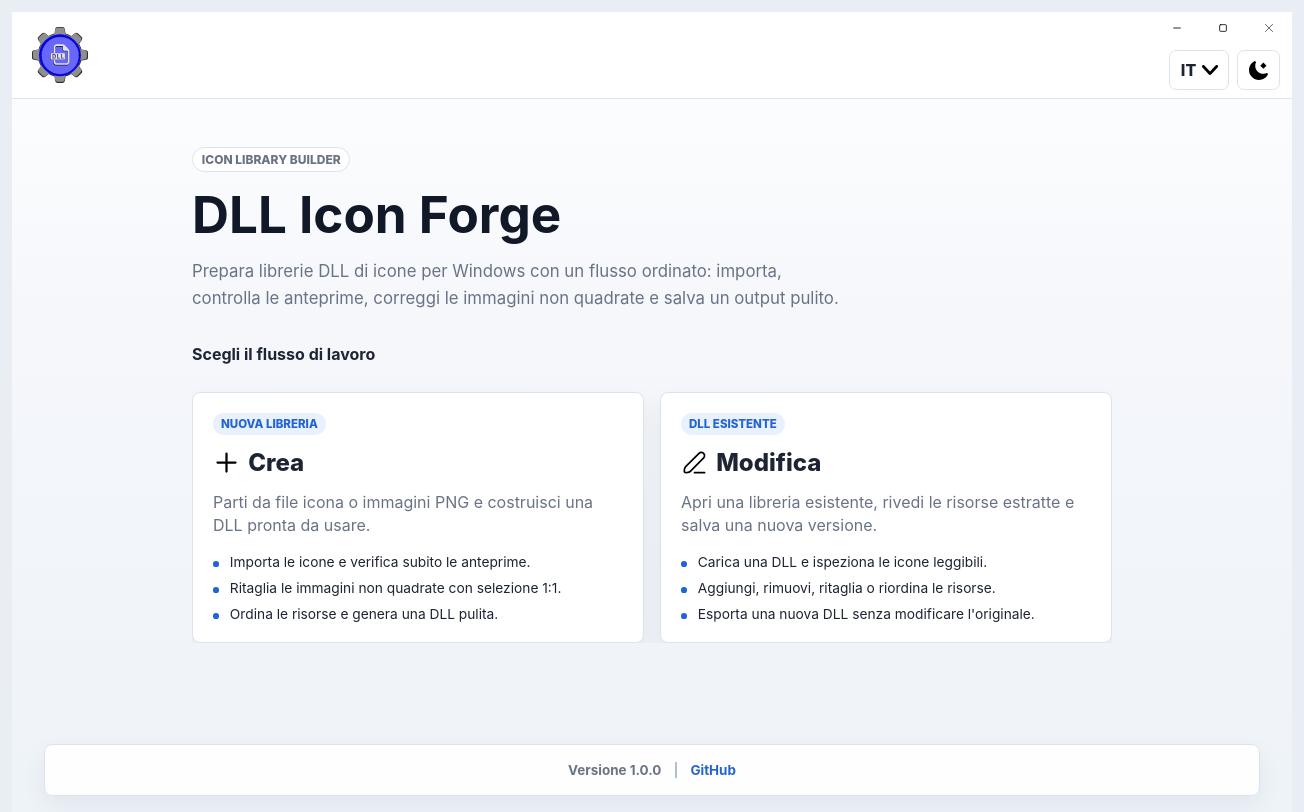
Test case: App › renders home first and switches to the selected mode
This screenshot has width=1304, height=812.
Click the button that starts with "Nuova libreria".
click(269, 424)  # box [192,392,644,643]
(page scrolled)
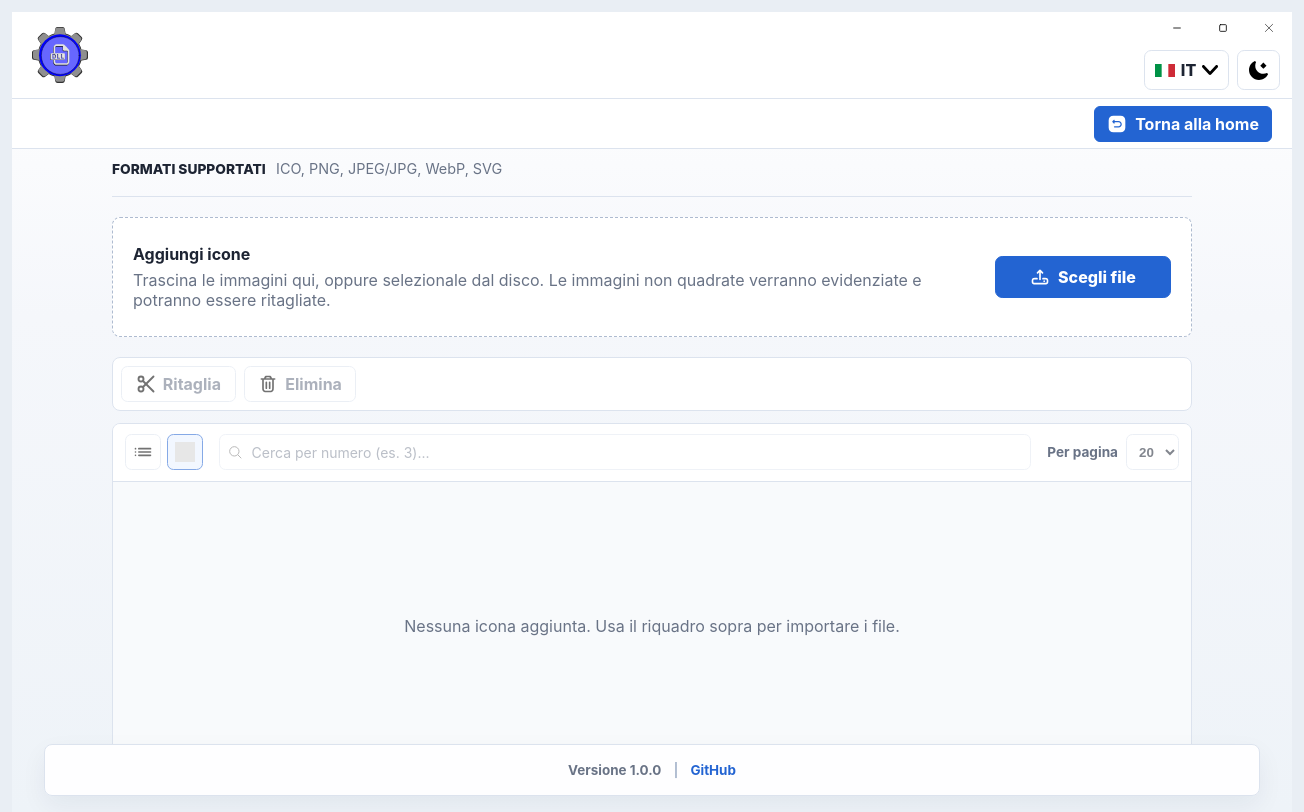
expect the element that starts with "Crea" is shown: met
